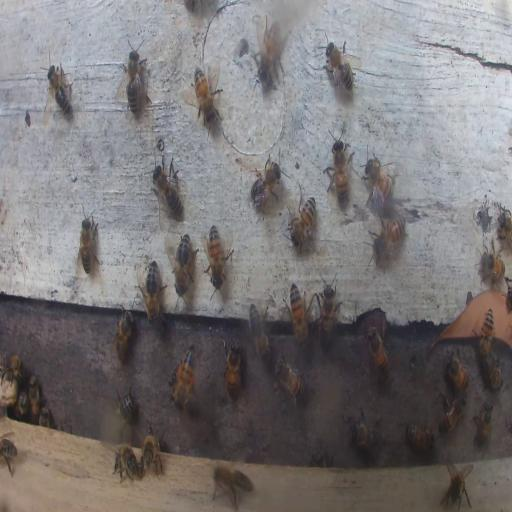nonpollenbee: (324, 122, 354, 204), (256, 16, 286, 88), (193, 63, 224, 128), (152, 158, 183, 220), (204, 222, 233, 288), (122, 37, 146, 115), (323, 39, 356, 95), (363, 156, 397, 208), (138, 258, 166, 321), (212, 462, 252, 506), (440, 460, 474, 511), (249, 158, 282, 210), (346, 408, 384, 452), (274, 357, 304, 412), (371, 215, 406, 261), (45, 62, 73, 118), (318, 271, 339, 345), (289, 193, 316, 249), (248, 302, 272, 364), (172, 230, 194, 294), (289, 282, 309, 350), (79, 210, 98, 276), (112, 442, 140, 486), (437, 391, 465, 433), (142, 425, 164, 476), (367, 324, 389, 374), (113, 310, 134, 361), (471, 402, 494, 448), (224, 340, 242, 397), (445, 352, 470, 392), (405, 422, 435, 452), (478, 248, 504, 281), (480, 305, 494, 359), (116, 389, 137, 423), (0, 436, 18, 475), (28, 374, 42, 420), (2, 354, 22, 384), (498, 208, 511, 248), (489, 356, 502, 391), (14, 386, 28, 416), (39, 407, 51, 426)
pollenbee: (173, 342, 196, 411)
